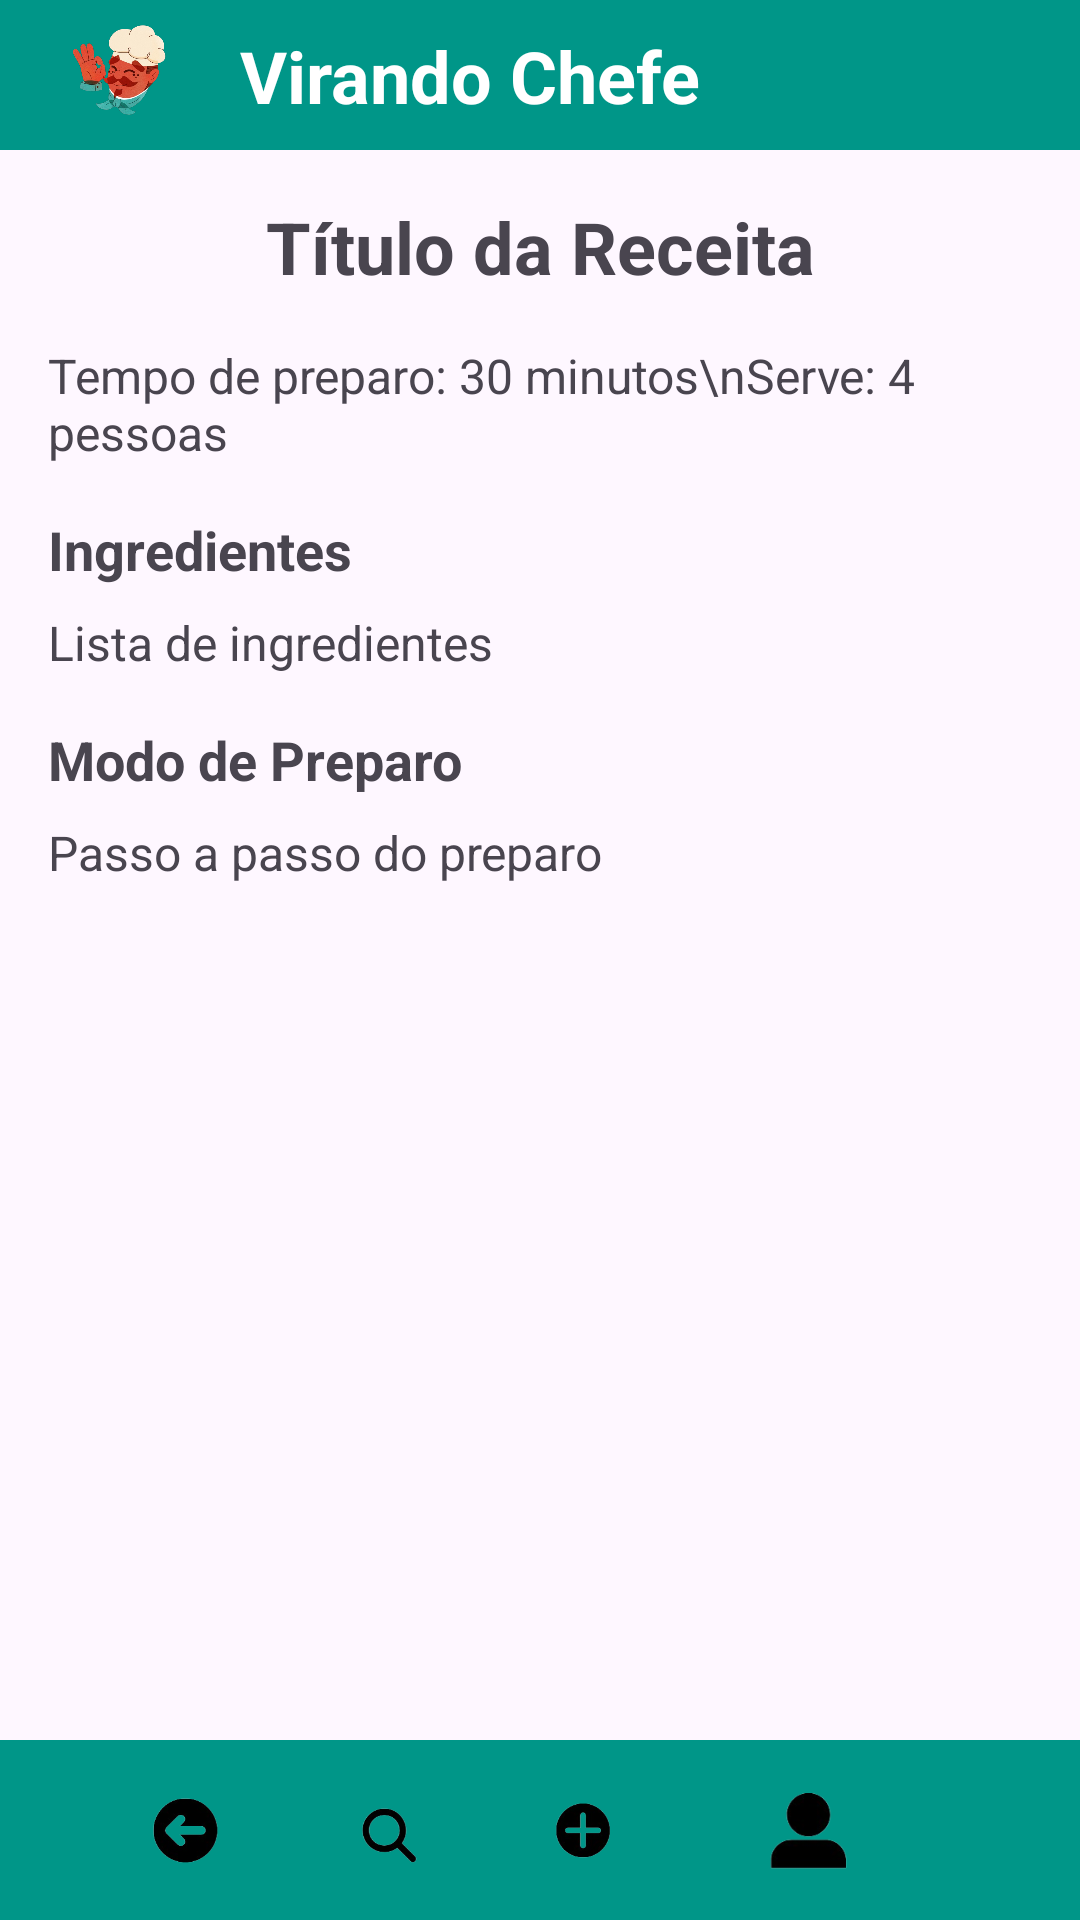

Point at icon controls on the screen. Image size 1080w x 1920h, points as (x=x, y=y).
Adicionar: (x=583, y=1830)
Perfil: (x=808, y=1831)
Pesquisar: (x=389, y=1835)
Voltar: (x=185, y=1830)
